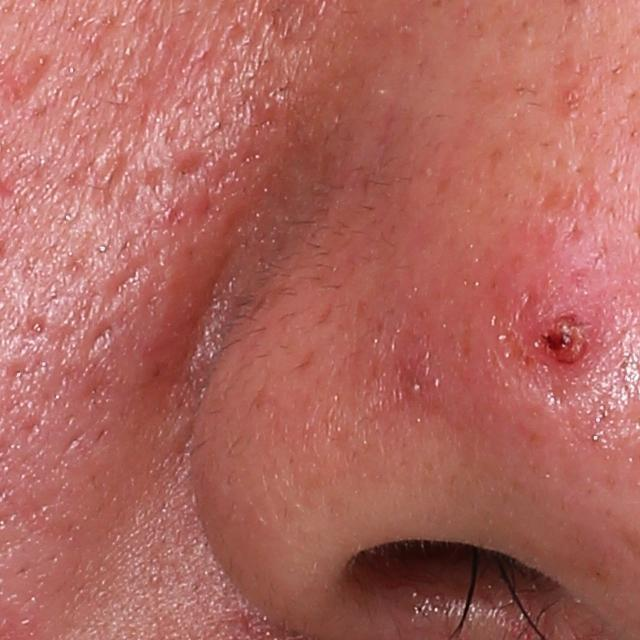atrophic_scar: (536, 176, 612, 247), (106, 251, 151, 303), (175, 148, 206, 186)
